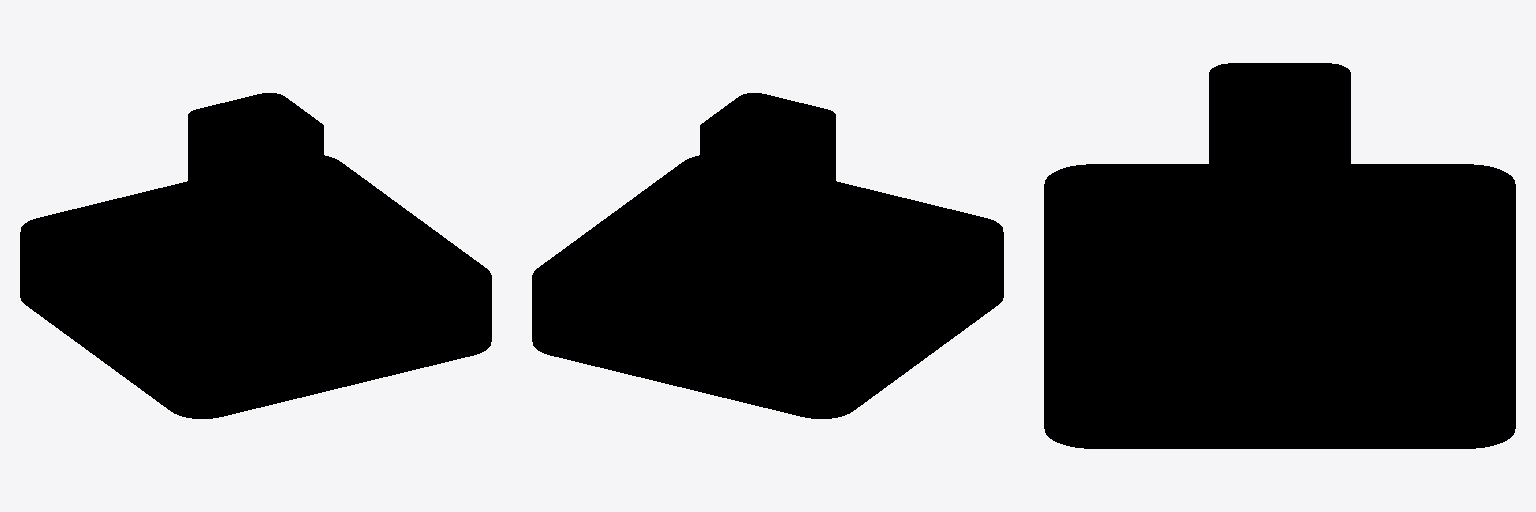
URDF robot description (power_socket):
<?xml version="1.0"?>
<robot name="power_socket">
    <link name="power_socket">
        <visual>
            <geometry>
                <mesh filename="../mesh/contact_mesh/vertical_pull_barbed_spike_socket.obj"/>                     
            </geometry>
            <material name="LightRed">
                <color rgba="0 0 0 1"/>
            </material>
        </visual>
        <collision>
            <geometry>
                <mesh filename="../mesh/contact_mesh/vertical_pull_barbed_spike_socket.obj"/> 
            </geometry>
            <sdf resolution="128"/>
        </collision>
    </link>
</robot>

--- Facts derived from the render (not from the file) ---
The picture shows the robot from 3 angles, left to right: view 1: azimuth 30°, elevation 25°; view 2: azimuth 150°, elevation 25°; view 3: azimuth 270°, elevation 25°; orthographic projection.
Model power_socket with 1 links and 0 joints (none), rooted at power_socket, posed all joints at 0.
Visible links, largest first — view 1: power_socket; view 2: power_socket; view 3: power_socket.
Boxes of the visible links, x1,y1,x2,y2 form: power_socket: [20, 93, 491, 418]; power_socket: [532, 93, 1003, 418]; power_socket: [1044, 63, 1515, 448].
Bounding box of the posed robot: 0.04 × 0.04 × 0.024 m (x, y, z).
Meshes: 1 distinct files referenced, 1 mesh visuals loaded (1 OBJ).
